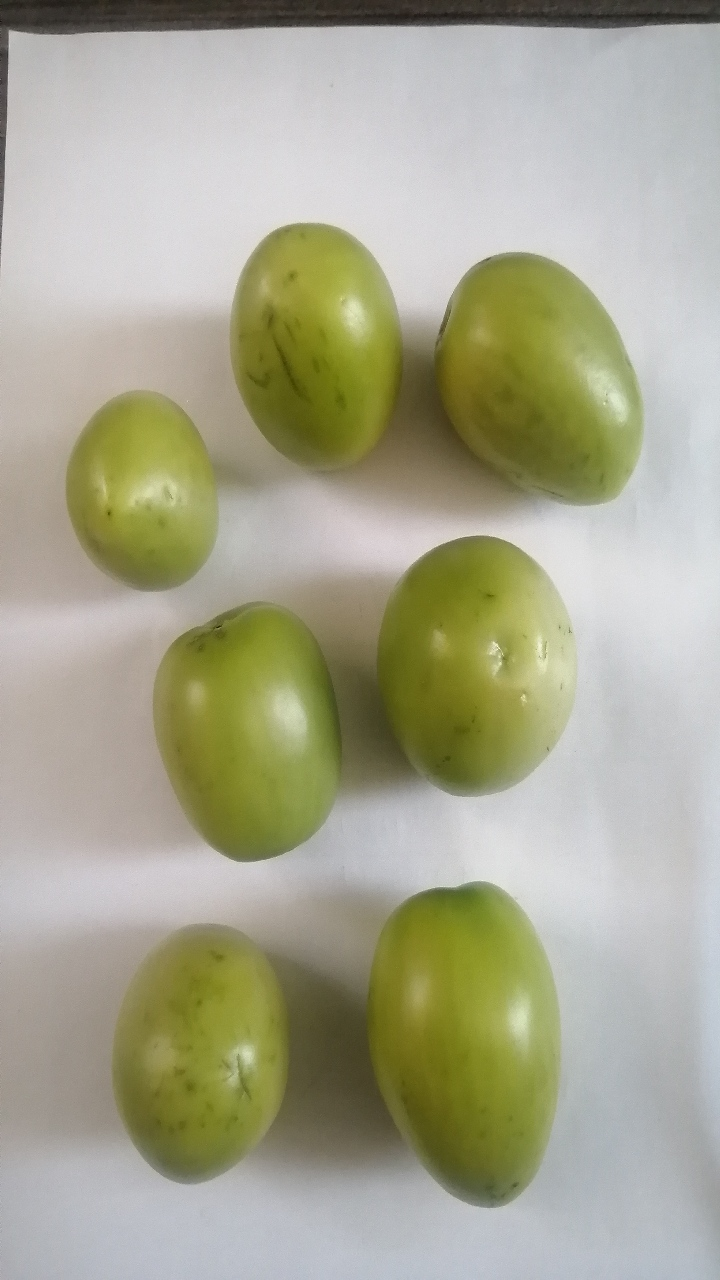tomateVerde: (349, 866, 571, 1229), (352, 519, 601, 820), (418, 226, 649, 522), (134, 586, 358, 875), (98, 911, 303, 1200), (212, 202, 400, 486), (60, 368, 244, 605)
